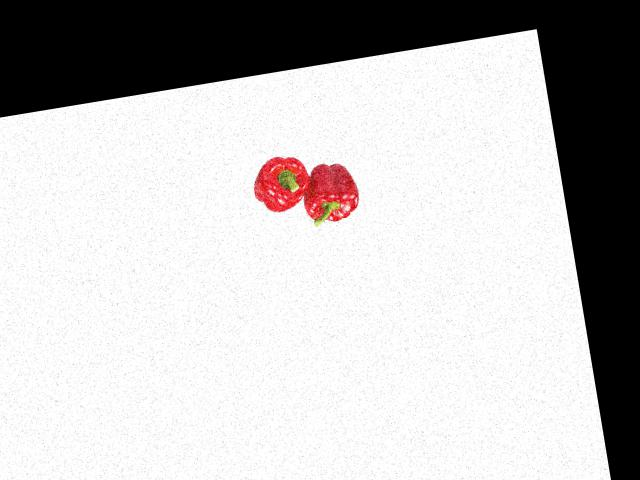bell_pepper: (295, 154, 364, 230)
